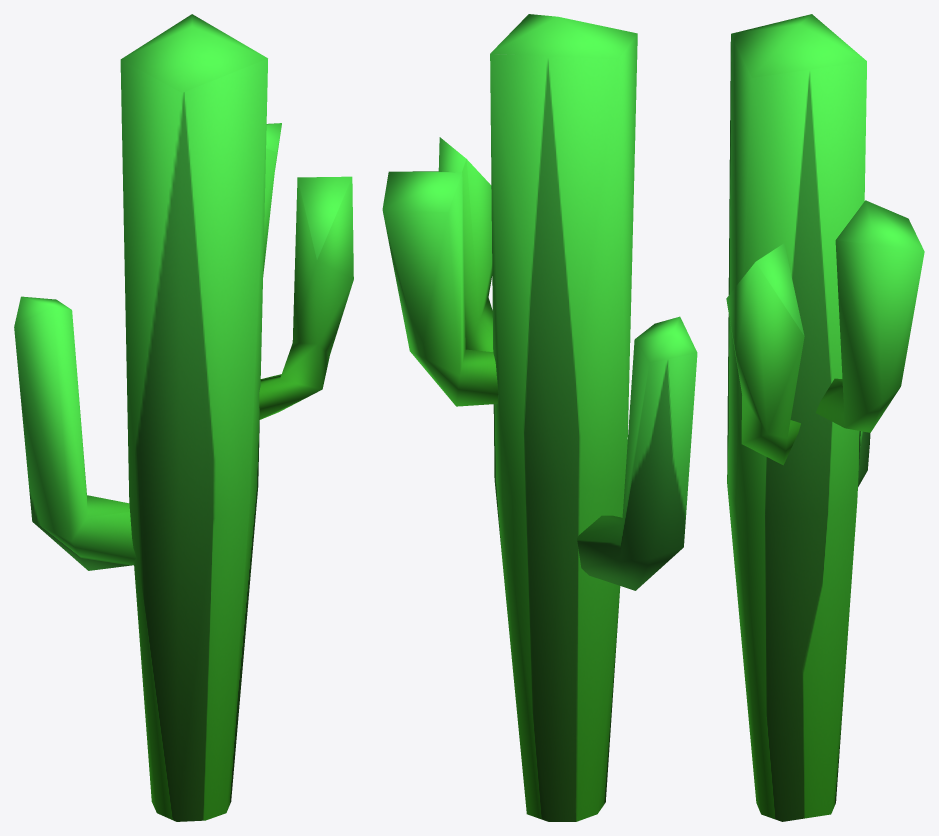
The model's file is Cactus1.fbx.
The picture shows the model from 3 angles, left to right: view 1: azimuth 30°, elevation 25°; view 2: azimuth 150°, elevation 25°; view 3: azimuth 270°, elevation 25°; orthographic projection.
Visible parts, largest first — view 1: Cactus; view 2: Cactus; view 3: Cactus.
Part boxes in pixels (x1,y1,x2,y2): Cactus: (14,14,353,821); Cactus: (382,14,697,821); Cactus: (726,14,924,821).
Bounding box in the file's own units: 106 × 267 × 61.33.
